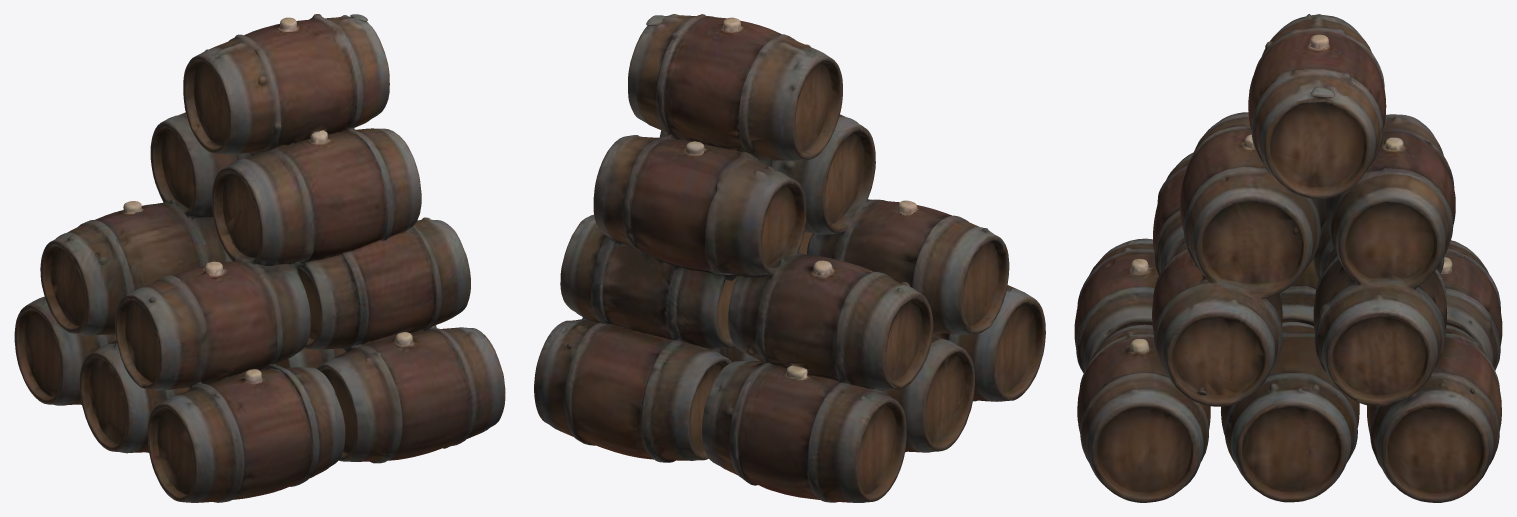
File: 重叠的酒桶.glb
3 renders of one model, left to right at view 1: azimuth 30°, elevation 25°; view 2: azimuth 150°, elevation 25°; view 3: azimuth 270°, elevation 25°, orthographic. The views are drawn at different scales.
Parts seen in each view (by area): view 1: tripo_node_bafdd9ff-ccfc-4a8d-9453-ceac62b5fe90; view 2: tripo_node_bafdd9ff-ccfc-4a8d-9453-ceac62b5fe90; view 3: tripo_node_bafdd9ff-ccfc-4a8d-9453-ceac62b5fe90.
Part boxes in pixels (x1,y1,x2,y2): tripo_node_bafdd9ff-ccfc-4a8d-9453-ceac62b5fe90: [14, 14, 505, 502]; tripo_node_bafdd9ff-ccfc-4a8d-9453-ceac62b5fe90: [534, 14, 1045, 502]; tripo_node_bafdd9ff-ccfc-4a8d-9453-ceac62b5fe90: [1074, 14, 1502, 502].
Bounding box in the file's own units: 0.8551 × 0.9997 × 0.9285.
Materials: 1 (1 with a texture image).
